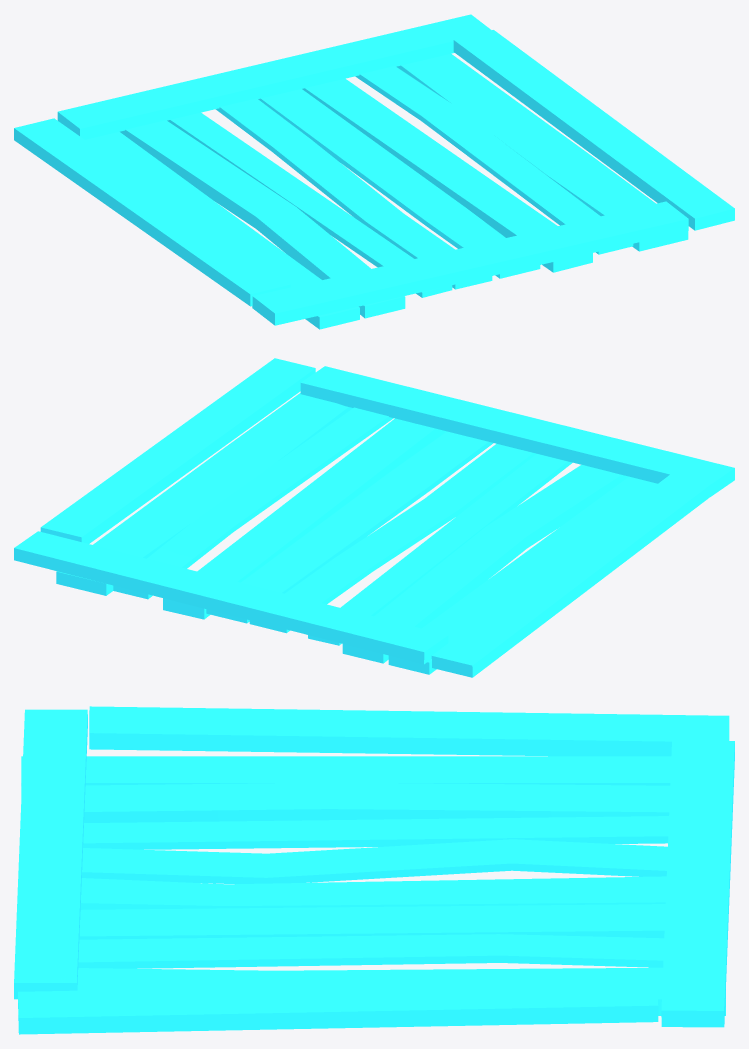
The model's file is board_block_transp.glb.
3 renders of one model, top to bottom at view 1: azimuth 30°, elevation 25°; view 2: azimuth 150°, elevation 25°; view 3: azimuth 270°, elevation 25°, orthographic. The views are drawn at different scales.
Parts seen in each view (by area): view 1: boards_transparent; view 2: boards_transparent; view 3: boards_transparent.
Part boxes in pixels (bbox=[...]): boards_transparent: bbox=[14, 14, 734, 329]; boards_transparent: bbox=[14, 358, 734, 677]; boards_transparent: bbox=[14, 706, 734, 1034].
Size of the model in its own units: 1.01 by 0.0636 by 1.01.
Materials: 1 (1 with a texture image).
